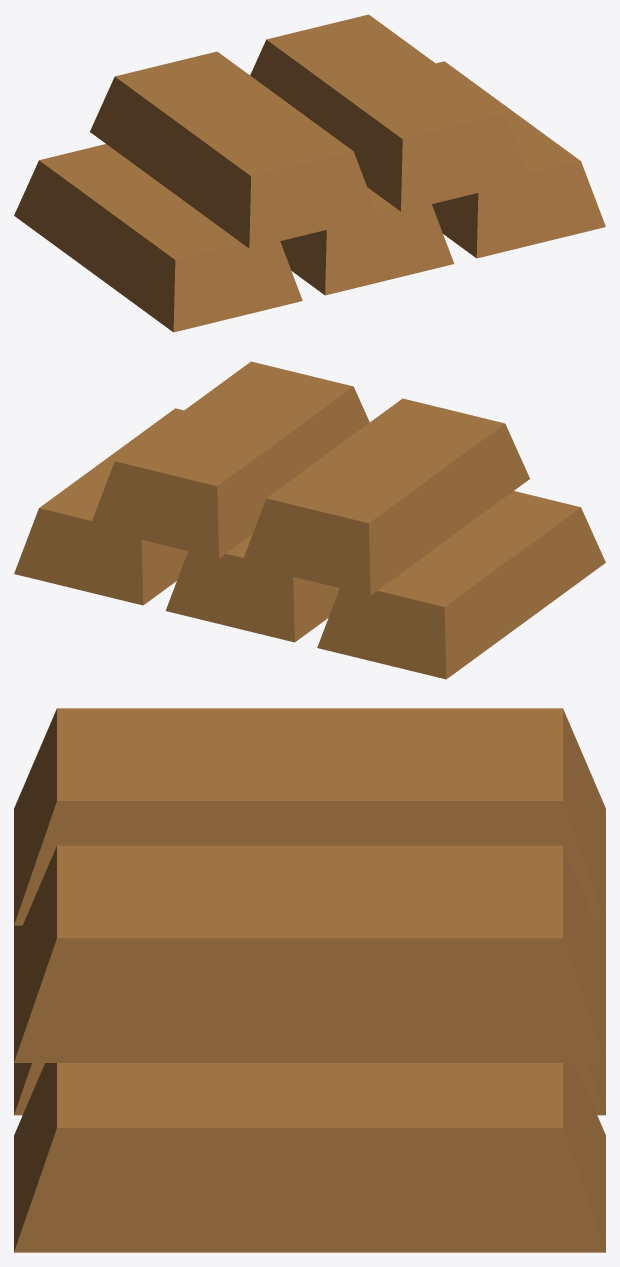
File: 06_Ingot_Stack.glb
3 renders of one model, top to bottom at view 1: azimuth 30°, elevation 25°; view 2: azimuth 150°, elevation 25°; view 3: azimuth 270°, elevation 25°, orthographic. The views are drawn at different scales.
Visible parts, largest first — view 1: 06_Ingot_Stack__Body; view 2: 06_Ingot_Stack__Body; view 3: 06_Ingot_Stack__Body.
Boxes of the visible parts, x1,y1,x2,y2 form: 06_Ingot_Stack__Body: [14, 14, 605, 332]; 06_Ingot_Stack__Body: [14, 361, 605, 679]; 06_Ingot_Stack__Body: [14, 708, 605, 1252].
Bounding box in the file's own units: 1.94 × 0.54 × 1.24.
Materials: 1 (1 with a texture image).
